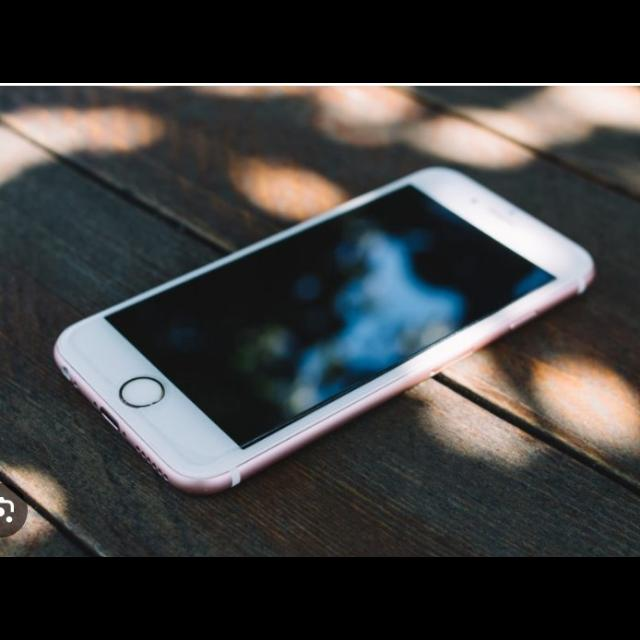Smartphone: (53, 165, 597, 497)
